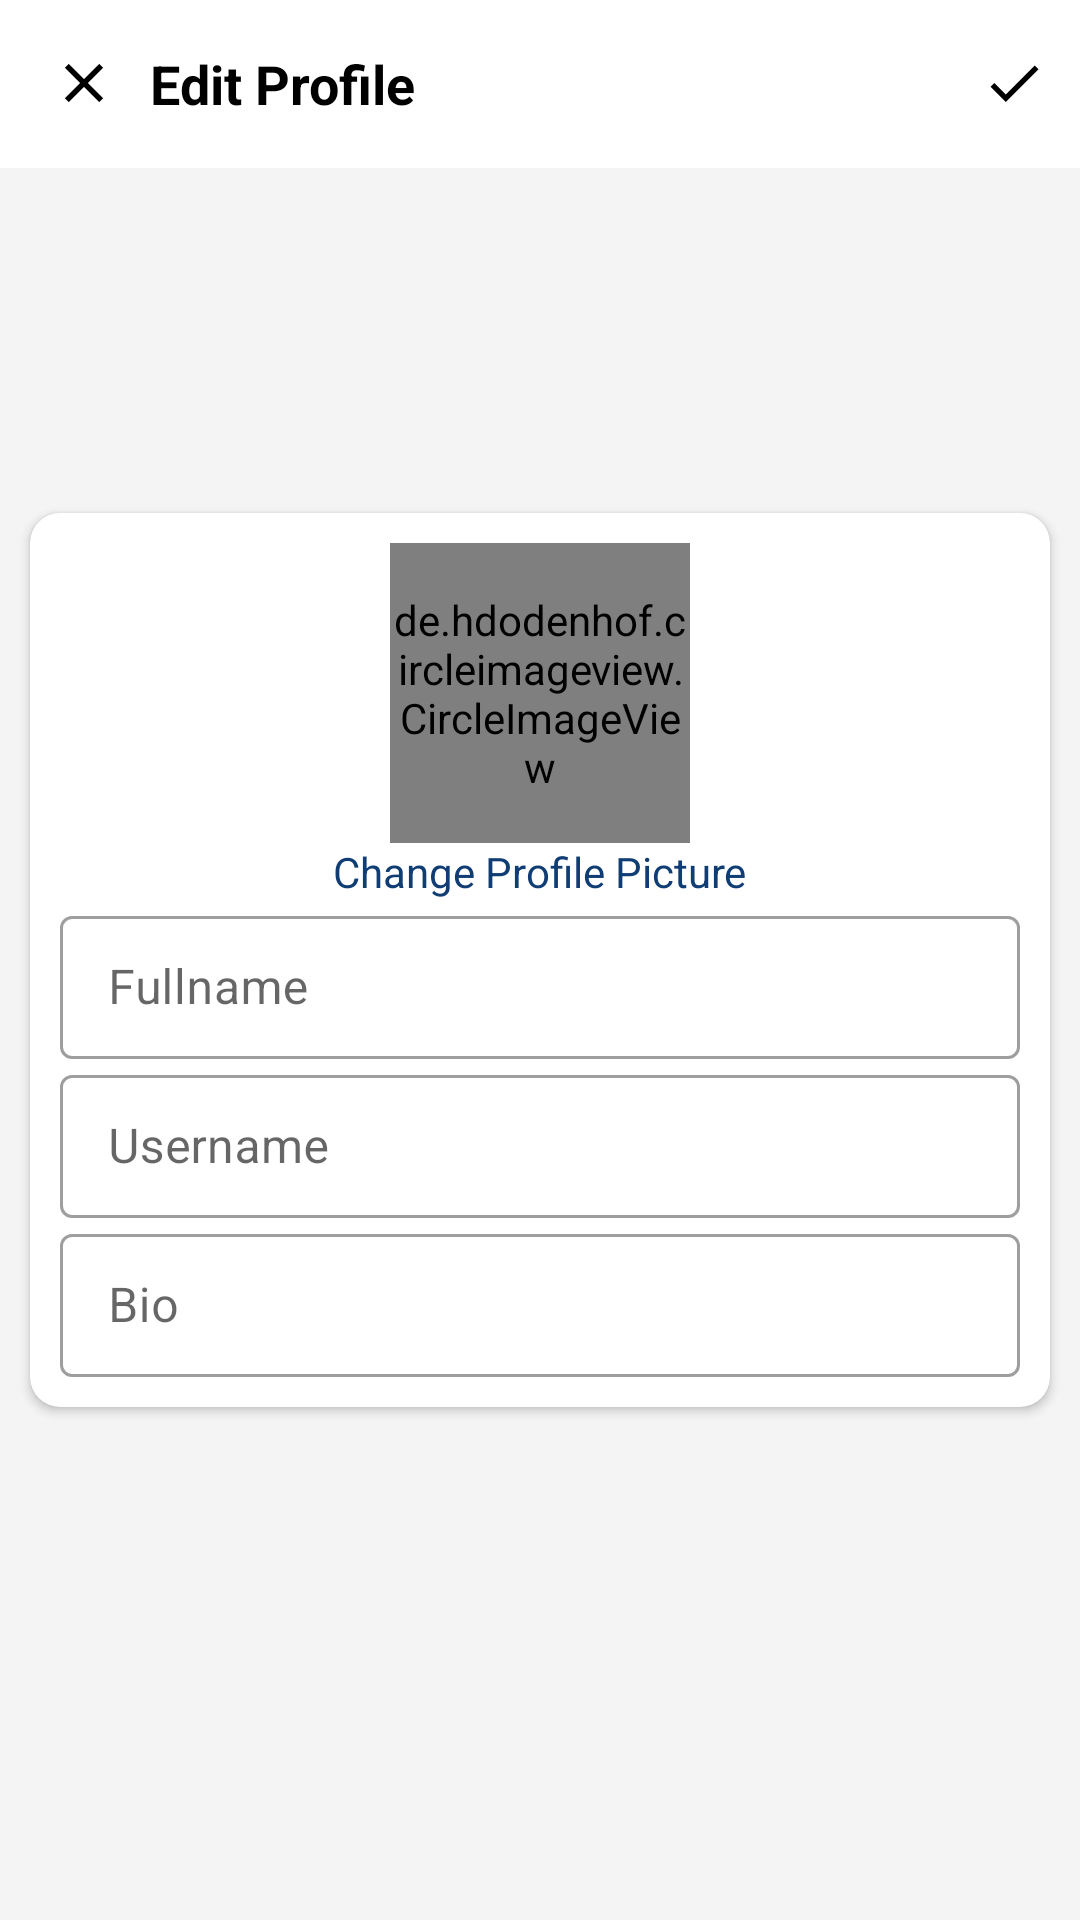

Icons on this 1080px x 1920px Android screen, each with its box as [left=x1, top=y1, right=x2, bottom=y2]:
close: [left=65, top=64, right=103, bottom=102]
done: [left=990, top=65, right=1039, bottom=102]
